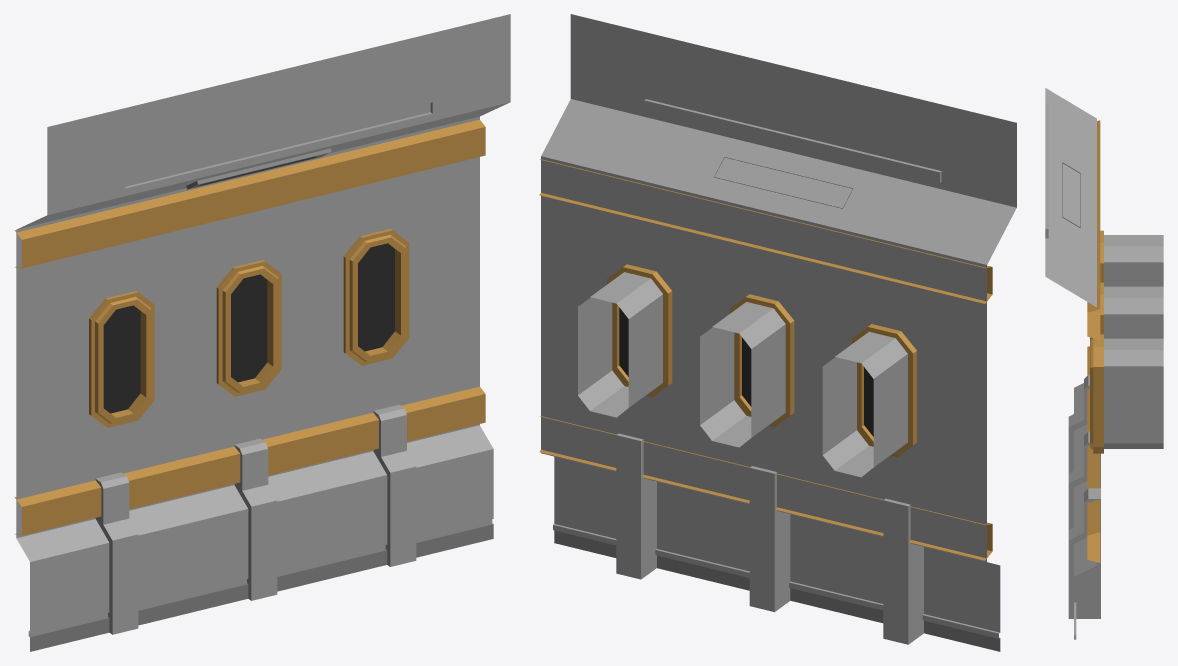
The model's file is ThreeWindows_Wall_SideA.fbx.
3 renders of one model, left to right at view 1: azimuth 30°, elevation 25°; view 2: azimuth 150°, elevation 25°; view 3: azimuth 270°, elevation 25°, orthographic. The views are drawn at different scales.
Parts seen in each view (by area): view 1: ThreeWindows_Wall_SideA; view 2: ThreeWindows_Wall_SideA; view 3: ThreeWindows_Wall_SideA.
Boxes of the visible parts, <box> form: ThreeWindows_Wall_SideA: <box>14,14,510,651</box>; ThreeWindows_Wall_SideA: <box>539,14,1016,651</box>; ThreeWindows_Wall_SideA: <box>1045,88,1163,639</box>.
Size of the model in its own units: 4 by 4.43 by 1.06.
